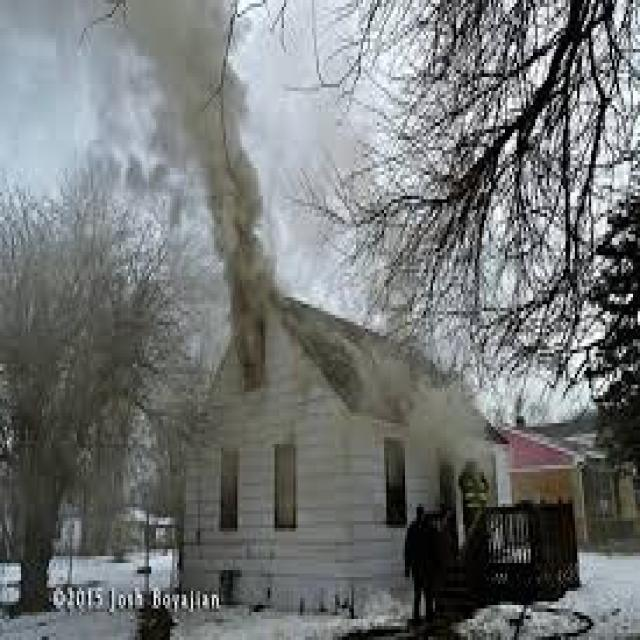Smoke: (56, 0, 278, 394)
